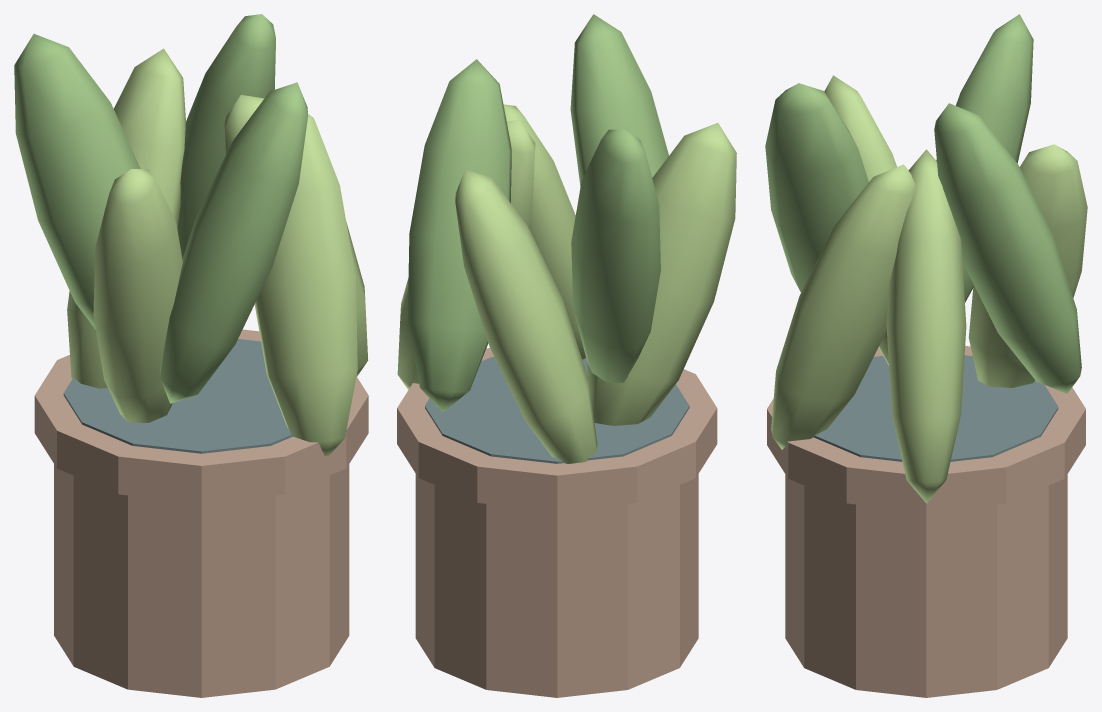
Rendered from PottedPlant.fbx.
The picture shows the model from 3 angles, left to right: view 1: azimuth 30°, elevation 25°; view 2: azimuth 150°, elevation 25°; view 3: azimuth 270°, elevation 25°; orthographic projection. The views are drawn at different scales.
Parts seen in each view (by area): view 1: PottedPlant; view 2: PottedPlant; view 3: PottedPlant.
Part boxes in pixels (<box>): PottedPlant: <box>14,14,368,697</box>; PottedPlant: <box>397,14,736,697</box>; PottedPlant: <box>765,14,1087,697</box>.
Size of the model in its own units: 0.5584 by 1.02 by 0.5253.
